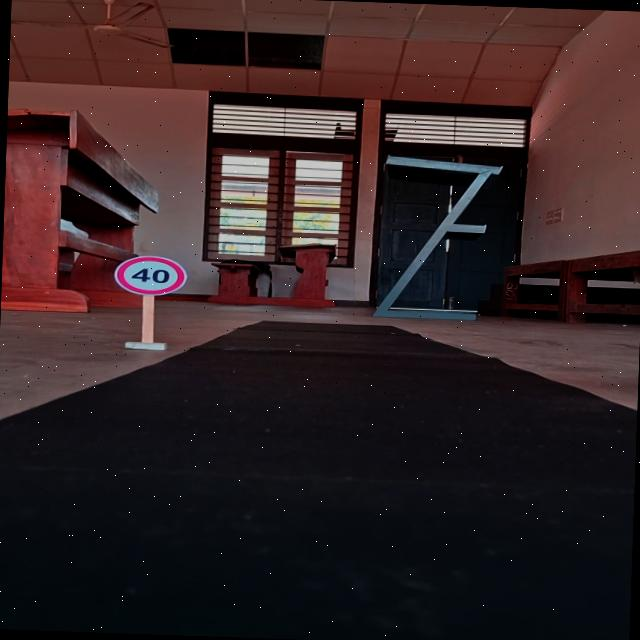Speed40: (110, 252, 189, 298)
